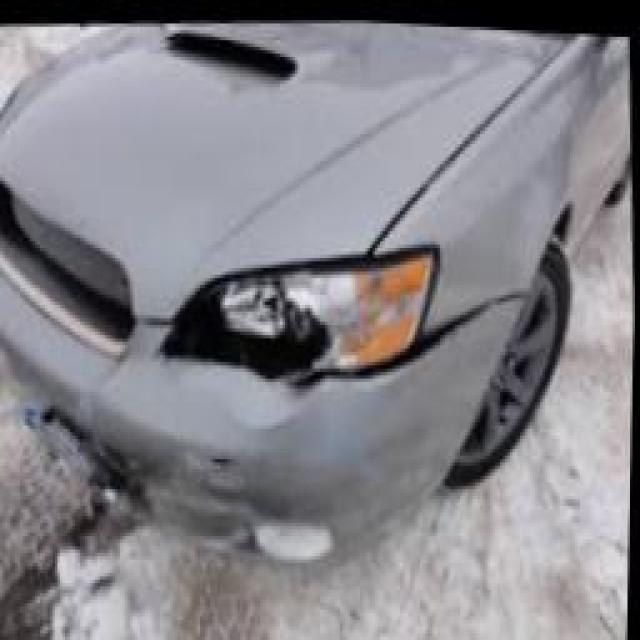replaceable: (172, 280, 356, 376)
